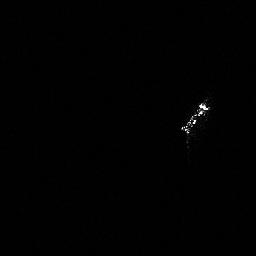ship: (177, 94, 215, 138)
